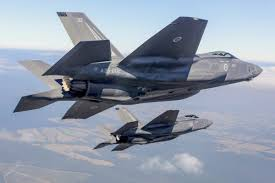fighter: (11, 9, 265, 121), (90, 103, 217, 153)
